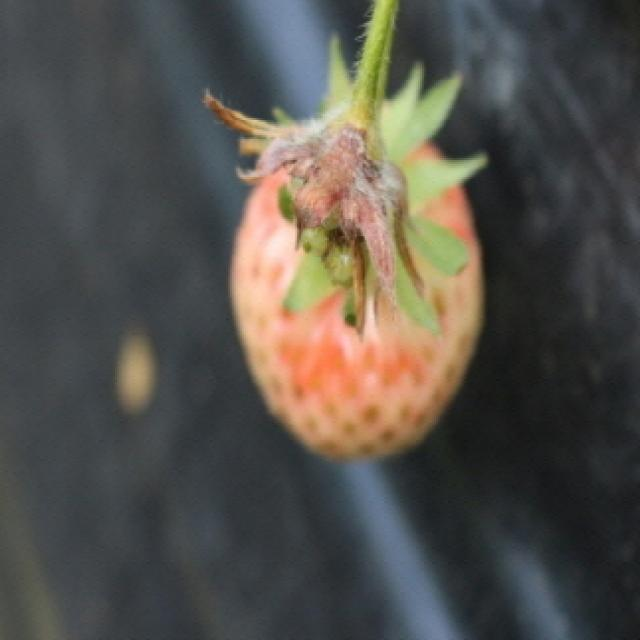Gray Mold: (203, 93, 435, 343)
